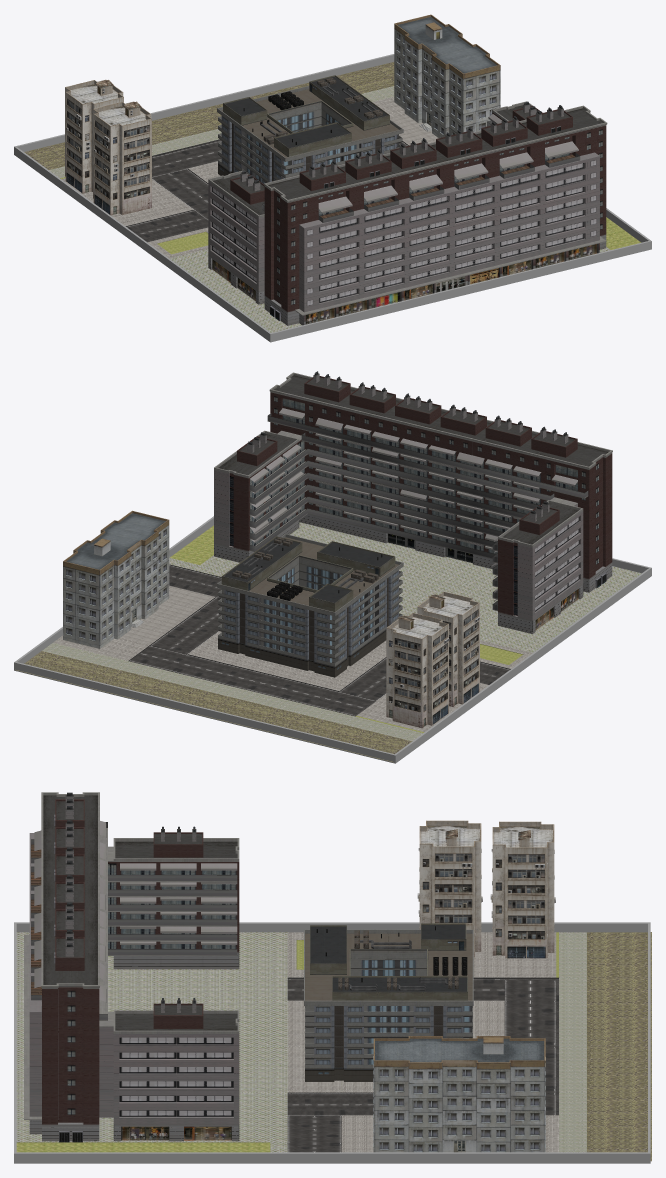
Rendered from map toy.fbx.
The picture shows the model from 3 angles, top to bottom: view 1: azimuth 30°, elevation 25°; view 2: azimuth 150°, elevation 25°; view 3: azimuth 270°, elevation 25°; orthographic projection. The views are drawn at different scales.
Parts seen in each view (by area): view 1: house, pPlane2, house1, pasted__BUILDING, polySurface312, polySurface480, polySurface481; view 2: house, pPlane2, house1, pasted__BUILDING, polySurface312, polySurface481, polySurface480; view 3: house, pPlane2, house1, pasted__BUILDING, polySurface312, polySurface481, polySurface480.
Part boxes in pixels (x1,y1,x2,y2): house: (208,101,607,325); pPlane2: (24,62,640,332); house1: (217,75,403,183); pasted__BUILDING: (394,14,500,138); polySurface312: (14,54,651,342); polySurface480: (93,101,151,215); polySurface481: (65,79,123,193); house: (214,371,612,633); pPlane2: (15,522,641,762); house1: (217,534,403,677); pasted__BUILDING: (63,510,169,648); polySurface312: (14,516,651,763); polySurface481: (386,612,449,728); polySurface480: (417,591,479,706); house: (24,792,239,1142); pPlane2: (16,932,651,1161); house1: (304,923,473,1081); pasted__BUILDING: (373,1036,545,1152); polySurface312: (14,922,650,1163); polySurface481: (490,821,555,958); polySurface480: (417,820,482,957).
Bounding box in the file's own units: 2403 × 867 × 2803.
